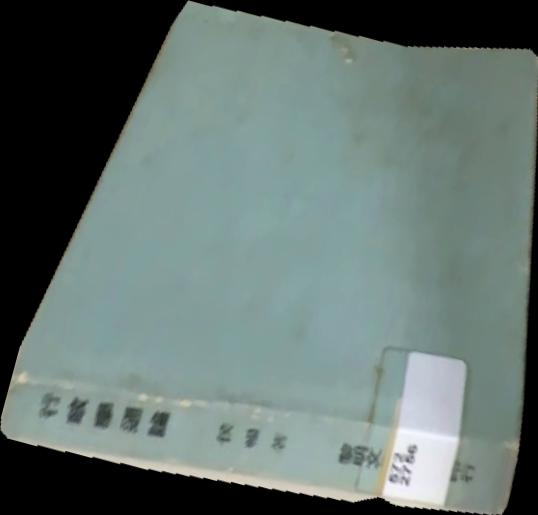flat: (1, 1, 538, 515)
